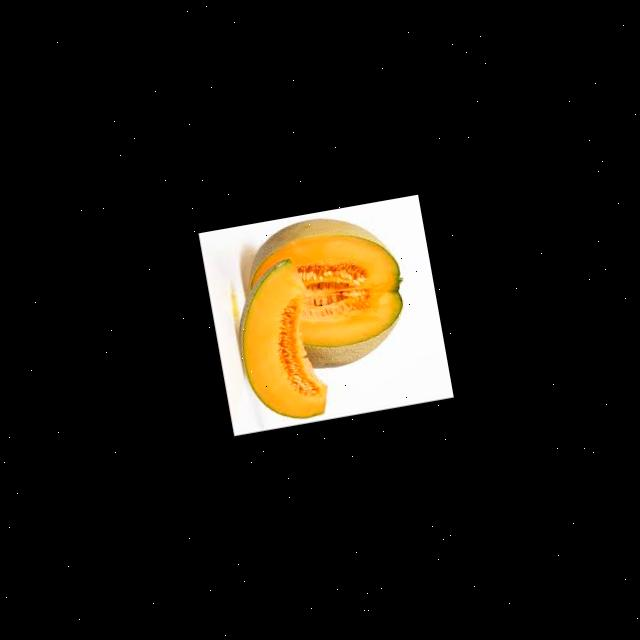Hami Melon: (238, 205, 416, 378), (226, 256, 332, 427)
